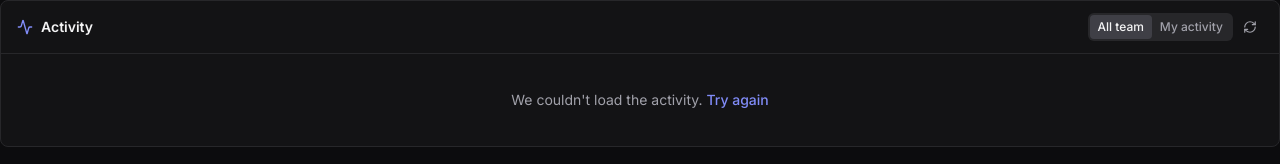
ActivityFeed › shows an error with a retry
Click the button "Try again".
click(738, 100)  # box [706,90,769,110]
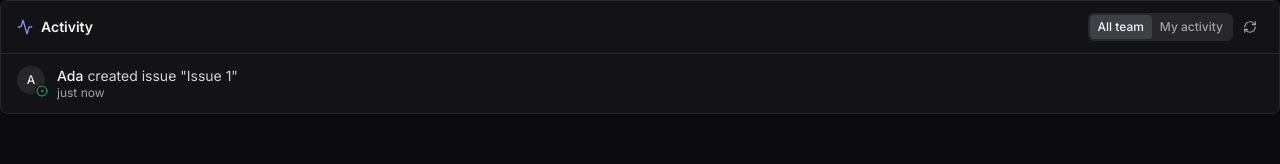
Expected: the number of list items with test id "feed-item" is 1, [17,66,238,100]
